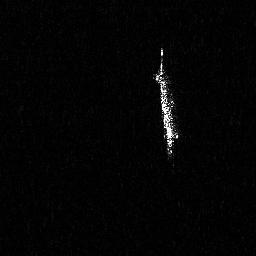ship: (151, 46, 184, 166)
